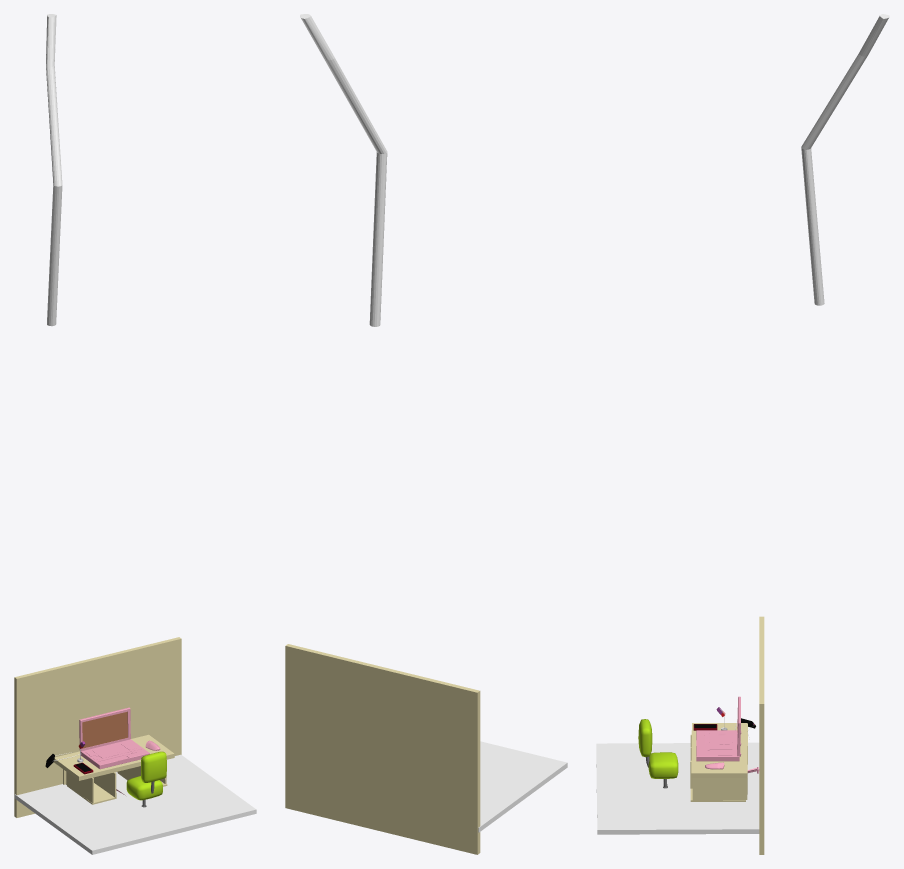
The picture shows the model from 3 angles, left to right: view 1: azimuth 30°, elevation 25°; view 2: azimuth 150°, elevation 25°; view 3: azimuth 270°, elevation 25°; orthographic projection. The views are drawn at different scales.
Visible parts, largest first — view 1: pCube1, pCube2, asset7_pCylinder2, asset4laptop_pCube2, asset3:desktop, asset4laptop_pCube1, asset8_pCube1, asset8_pCube2, asset3:pCube17; view 2: pCube1, pCube2, asset7_pCylinder2; view 3: pCube2, asset7_pCylinder2, asset3:desktop, pCube1, asset4laptop_pCube1, asset3:pCube13, asset8_pCube2.
Boxes of the visible parts, x1,y1,x2,y2 form: pCube1: (14,637,181,817); pCube2: (14,754,256,854); asset7_pCylinder2: (46,14,72,755); asset4laptop_pCube2: (79,707,130,751); asset3:desktop: (54,734,174,780); asset4laptop_pCube1: (80,739,149,769); asset8_pCube1: (141,751,166,782); asset8_pCube2: (126,776,162,800); asset3:pCube17: (66,772,93,803); pCube1: (285,644,480,854); pCube2: (478,741,567,832); asset7_pCylinder2: (300,14,387,326); pCube2: (596,742,759,834); asset7_pCylinder2: (747,14,889,739); asset3:desktop: (691,723,747,777); pCube1: (759,616,764,854); asset4laptop_pCube1: (696,730,739,761); asset3:pCube13: (692,778,747,800); asset8_pCube2: (648,752,678,778).
Size of the model in its own units: 41.09 by 175 by 58.15.
7 materials, 7 textured.
